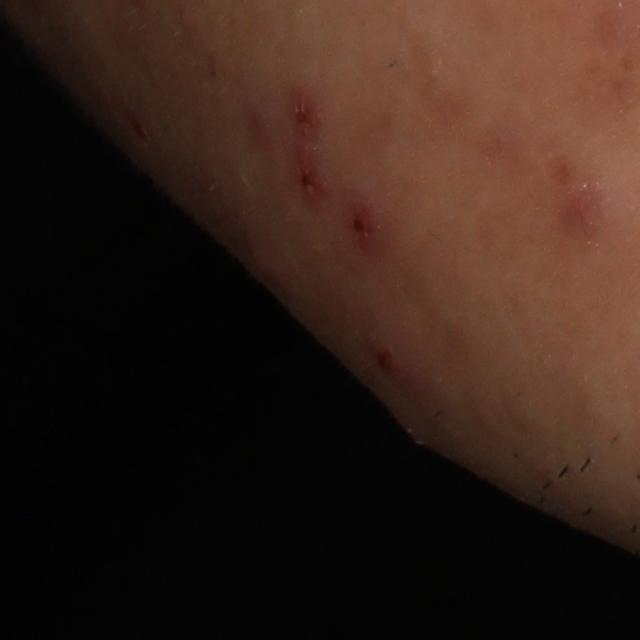papule: (554, 161, 611, 235), (341, 203, 377, 255), (363, 335, 402, 376), (293, 153, 328, 195), (291, 89, 317, 144)
